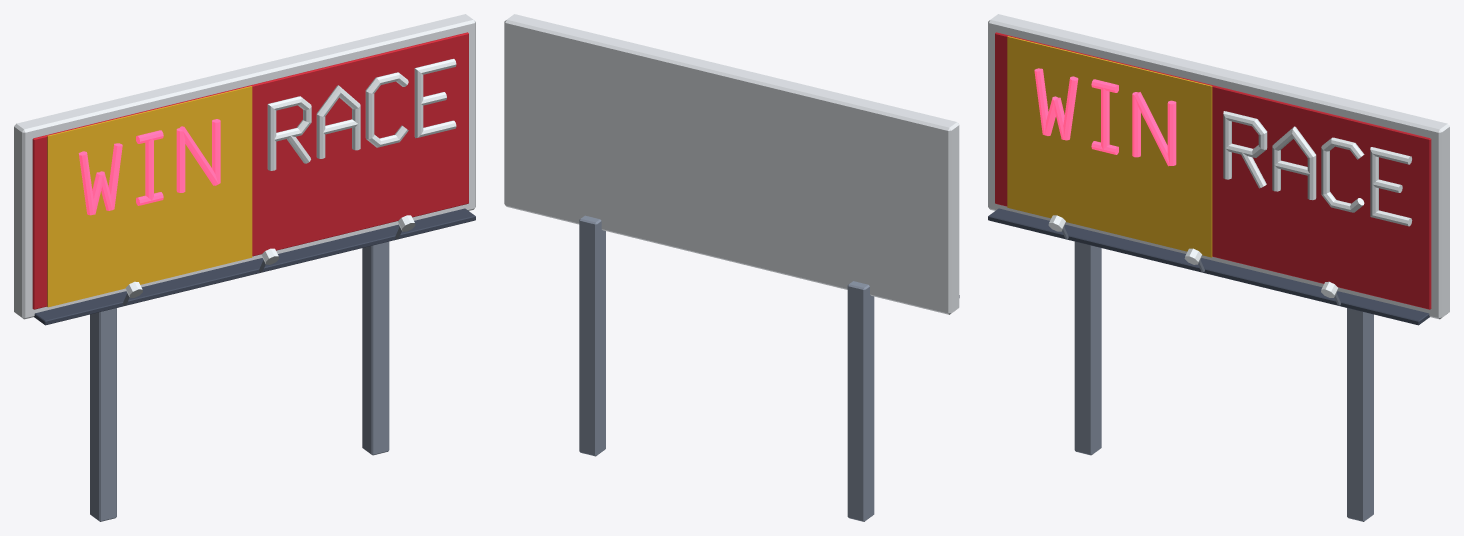
The model's file is Billboard.fbx.
3 renders of one model, left to right at view 1: azimuth 30°, elevation 25°; view 2: azimuth 150°, elevation 25°; view 3: azimuth 330°, elevation 25°, orthographic.
Visible parts, largest first — view 1: Billboard, Neon_White, Neon_Red; view 2: Billboard; view 3: Billboard, Neon_White, Neon_Red.
Part boxes in pixels (<box>): Billboard: <box>14,14,475,521</box>; Neon_White: <box>125,58,456,297</box>; Neon_Red: <box>78,119,220,215</box>; Billboard: <box>504,14,959,521</box>; Billboard: <box>988,14,1449,521</box>; Neon_White: <box>1048,111,1412,297</box>; Neon_Red: <box>1034,68,1176,166</box>.
Size of the model in its own units: 20 by 17.5 by 3.07.
Materials: 3 (1 with a texture image).
